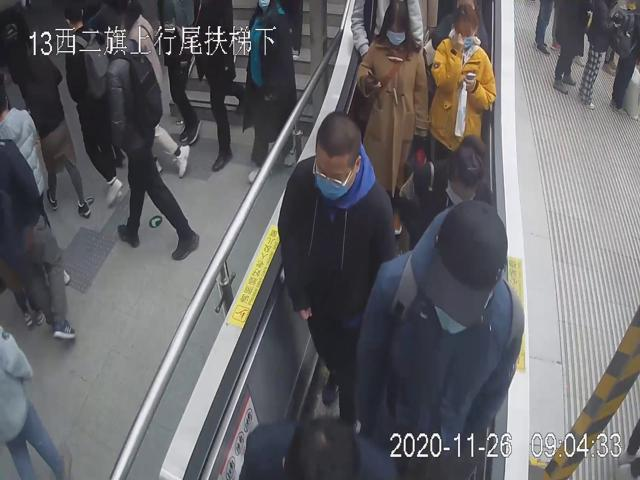person: (358, 200, 524, 480), (278, 110, 395, 411), (106, 20, 201, 261), (352, 0, 429, 193), (61, 0, 124, 203), (427, 0, 499, 159), (398, 133, 496, 242)
